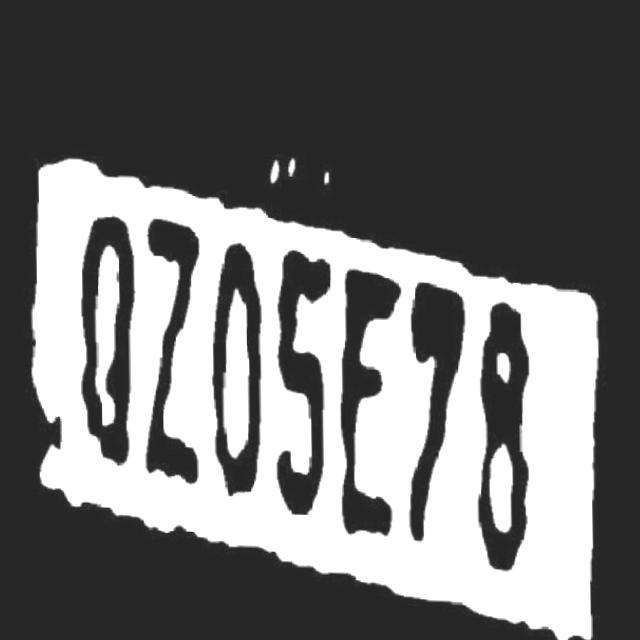5: (275, 242, 339, 561)
7: (402, 260, 481, 579)
8: (476, 288, 532, 572)
e: (337, 259, 402, 547)
o: (202, 238, 277, 554)
q: (75, 208, 137, 469)
z: (139, 208, 209, 539)
